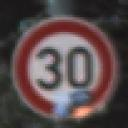speed_limit_30: (11, 16, 119, 122)
